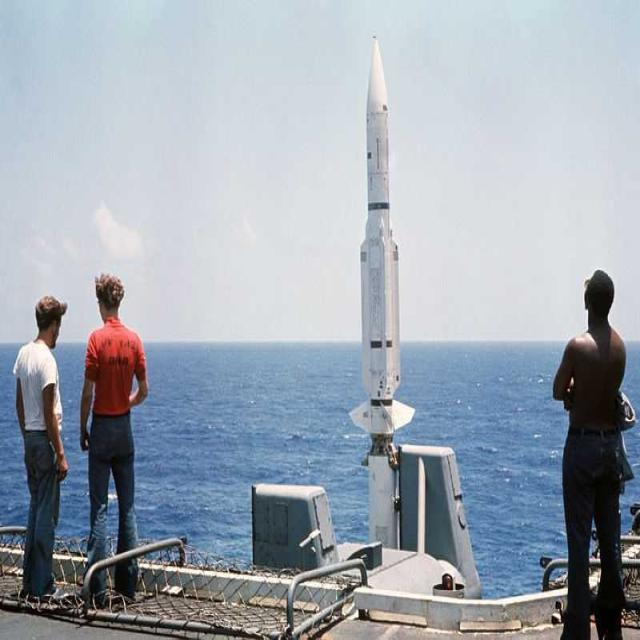missile: (358, 32, 413, 457)
